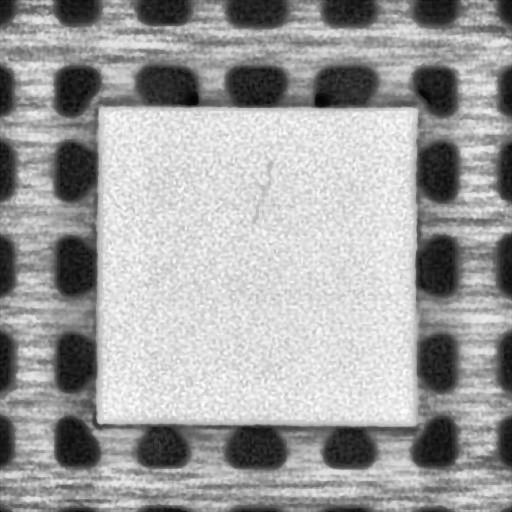DIE_CRACK: (246, 154, 275, 227)
